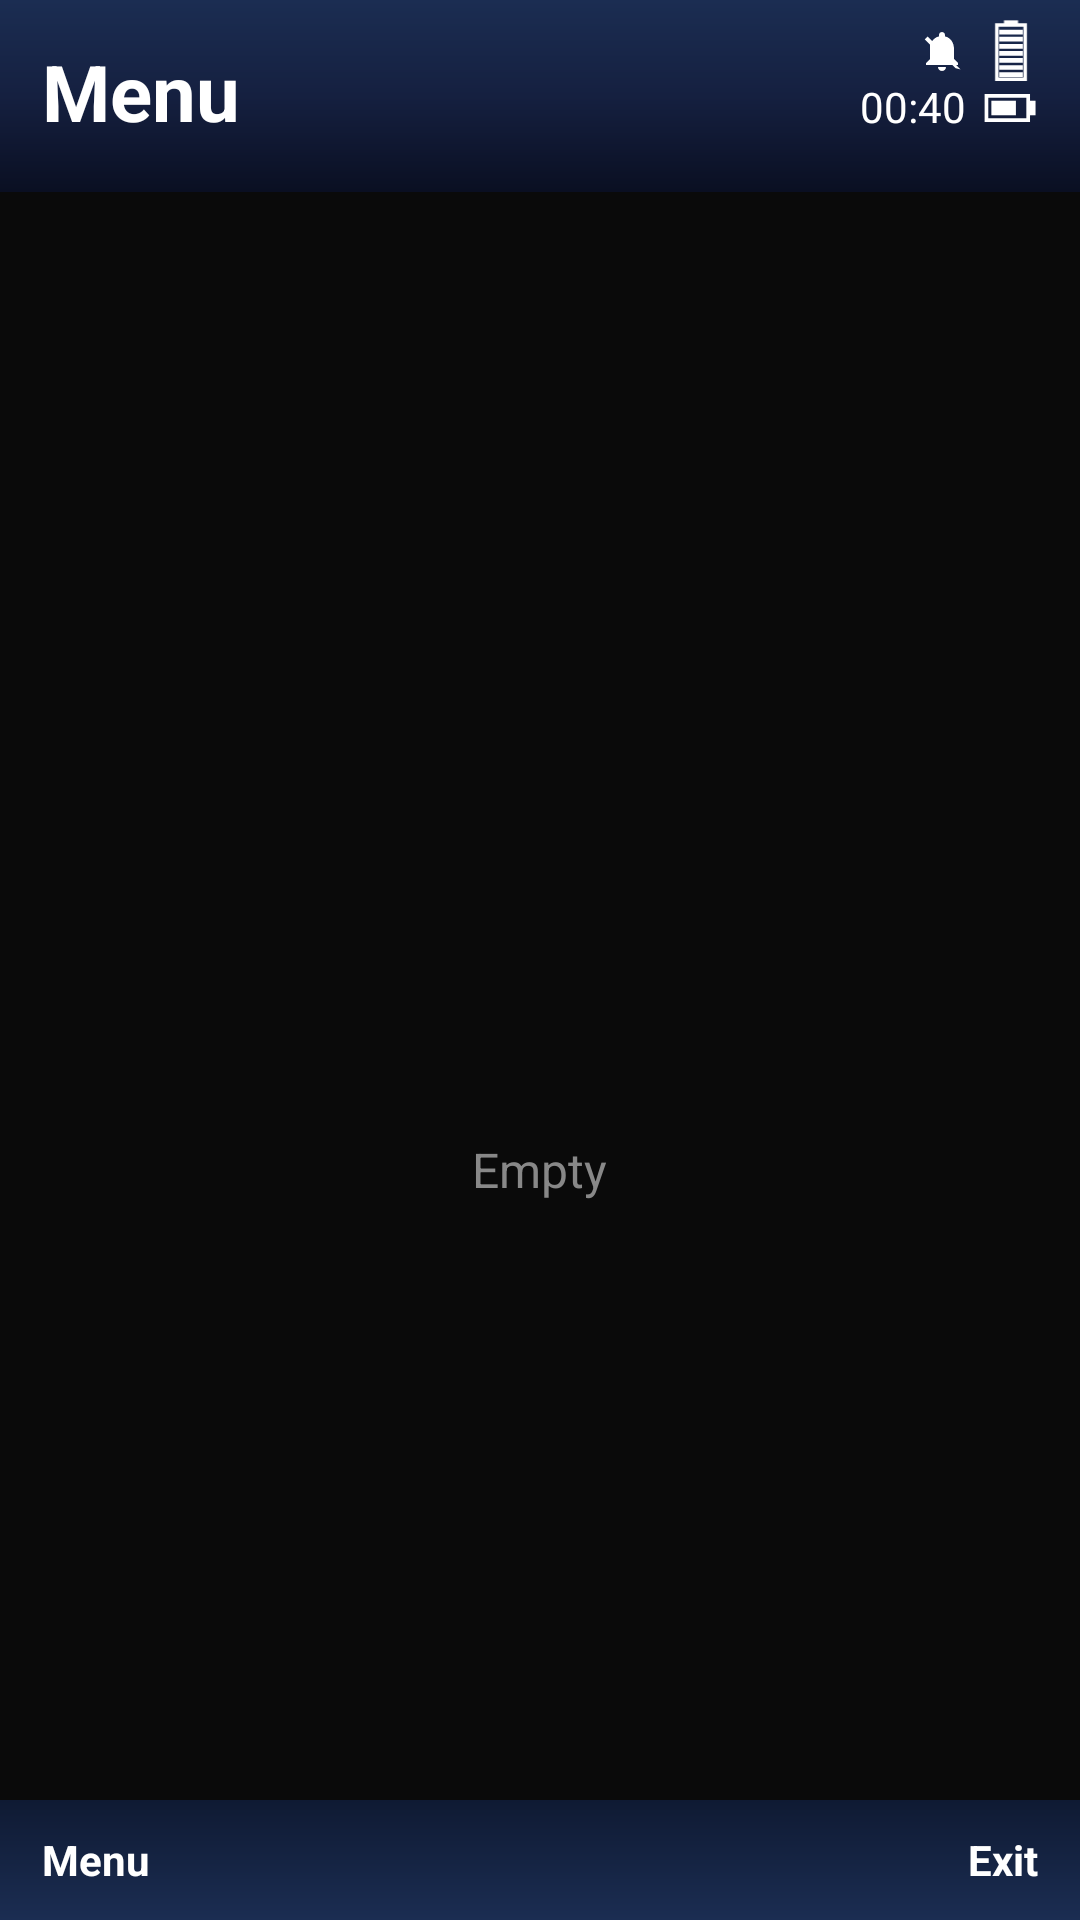

Point at icon controls on the screen. Image size 1080px×1920px, points as (x,y).
battery: (1010,108)
battery bars: (1011,50)
bell muted: (943,51)
